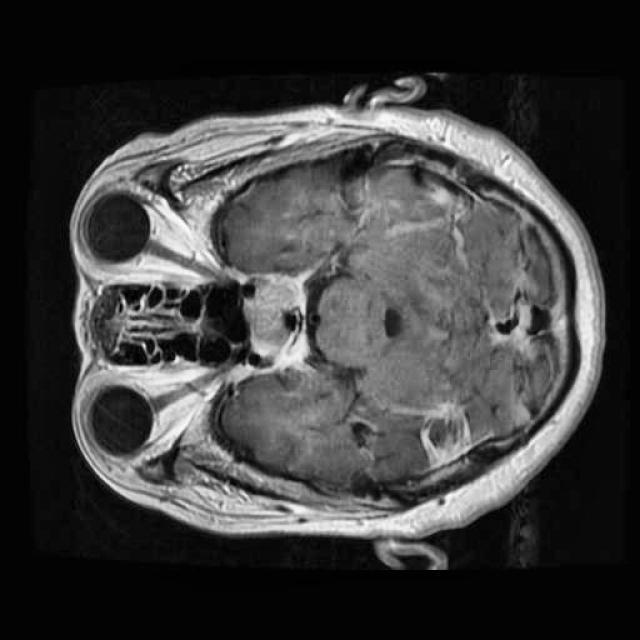Tumor: (241, 264, 305, 366)
